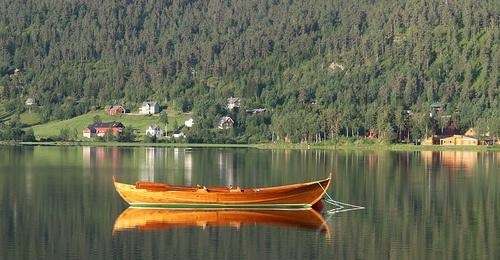boat: (114, 174, 334, 209)
